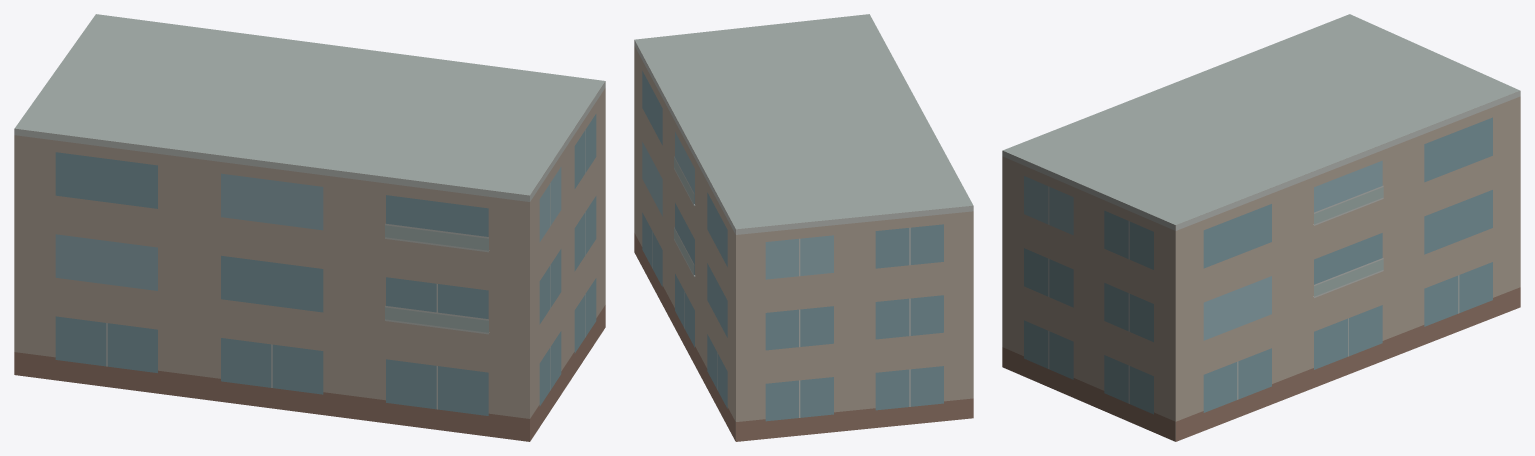
File: survey-upis-32906395.glb
3 renders of one model, left to right at view 1: azimuth 30°, elevation 25°; view 2: azimuth 150°, elevation 25°; view 3: azimuth 270°, elevation 25°, orthographic. The views are drawn at different scales.
Visible parts, largest first — view 1: survey-upis-32906395.tmp; view 2: survey-upis-32906395.tmp; view 3: survey-upis-32906395.tmp.
Part boxes in pixels (x1,y1,x2,y2): survey-upis-32906395.tmp: (14, 14, 605, 441); survey-upis-32906395.tmp: (634, 14, 973, 441); survey-upis-32906395.tmp: (1002, 14, 1520, 441).
Size of the model in its own units: 19.14 by 9.15 by 19.83.
